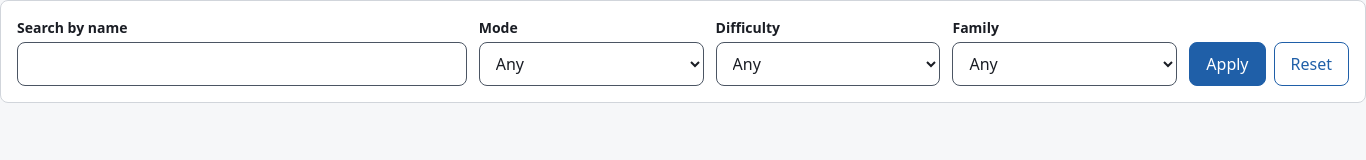
Scenario: ExerciseFiltersForm › shows a validation error and does not apply a too short search
This screenshot has width=1366, height=160.
In the search field labelled "Search by name": (242, 64) left=17, top=42, right=467, bottom=86, type "a"
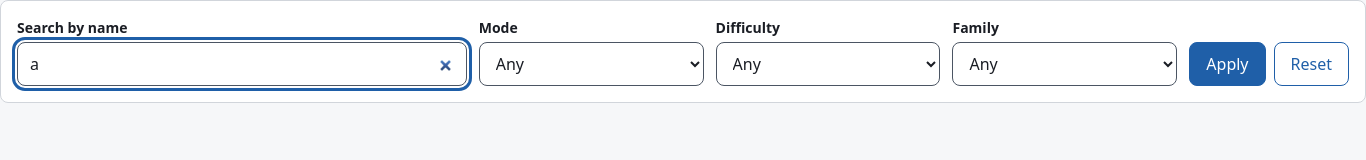
Click the button "Apply": (1227, 64) left=1189, top=42, right=1266, bottom=86
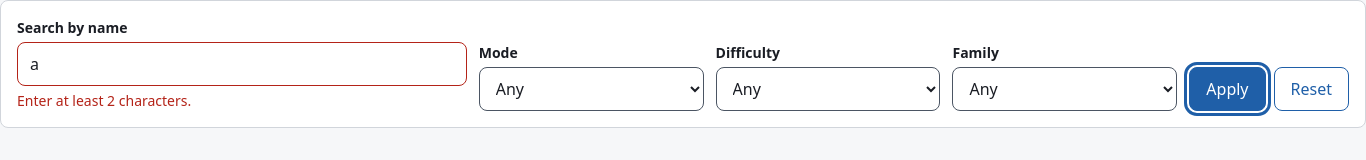
Expected: the text "Enter at least 2 characters." is shown, left=17, top=91, right=191, bottom=110
